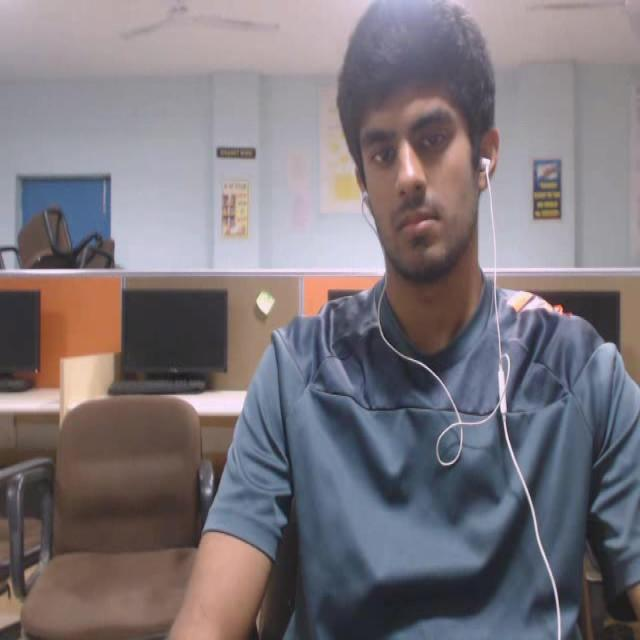Bored: (317, 0, 538, 303)
